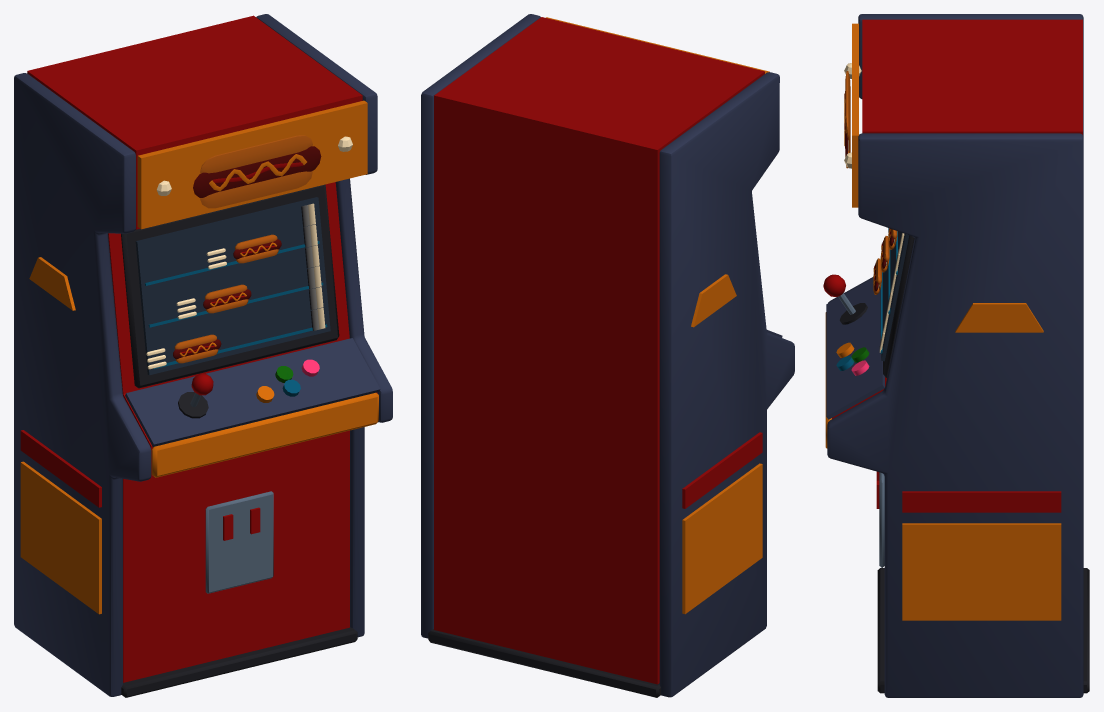
File: DashArcade.obj
3 views of the same model, side by side, from view 1: azimuth 30°, elevation 25°; view 2: azimuth 150°, elevation 25°; view 3: azimuth 270°, elevation 25° (orthographic). The views are drawn at different scales.
Visible parts, largest first — view 1: DashArcade; view 2: DashArcade; view 3: DashArcade.
Boxes of the visible parts, x1,y1,x2,y2 form: DashArcade: (14,14,392,697); DashArcade: (421,14,794,697); DashArcade: (823,14,1089,697).
Bounding box in the file's own units: 3.46 × 7.01 × 3.02.
